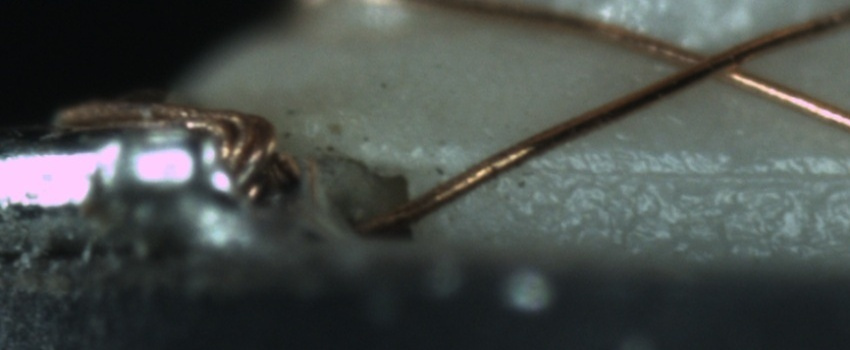CL: (654, 35, 776, 89)
DL: (529, 138, 849, 204)
TE: (38, 98, 309, 211)
